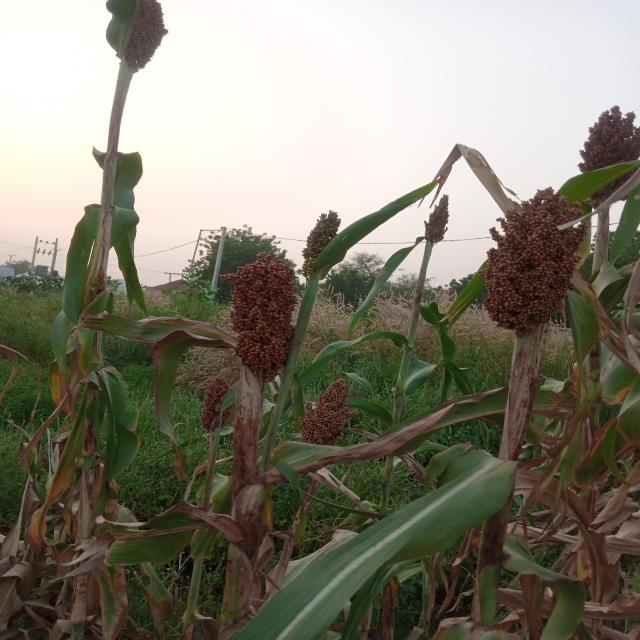RipeSorghum: (474, 164, 572, 341)
